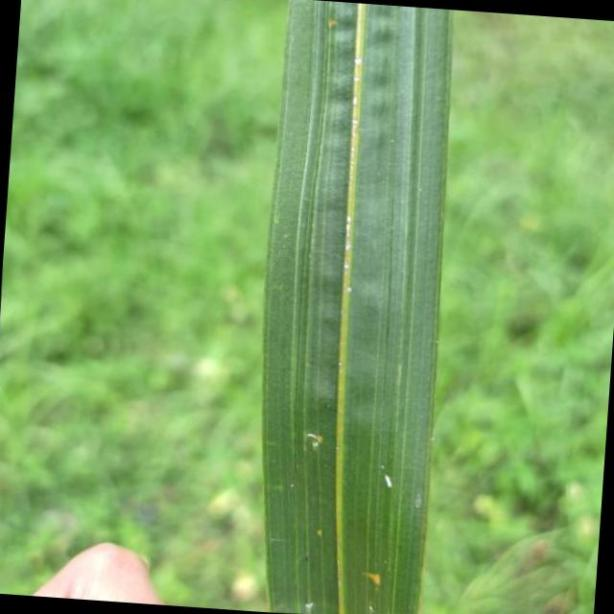Boron: (256, 0, 449, 614)
